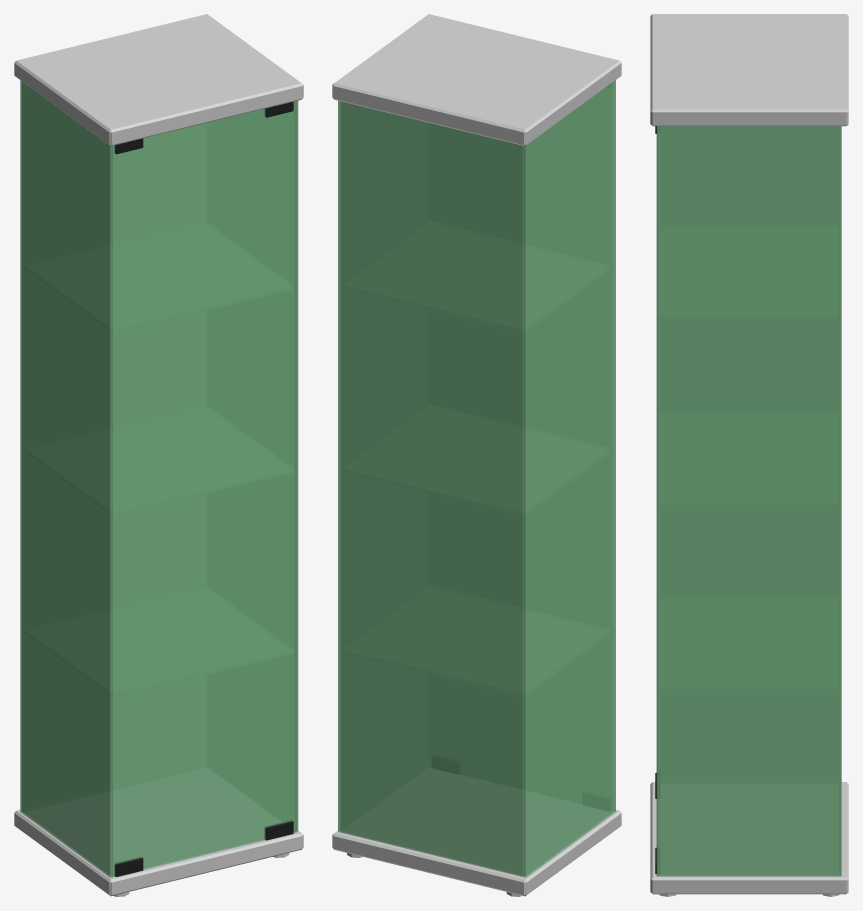
Rendered from DetolfGlassdoorCabinet.FBX.
3 views of the same model, side by side, from view 1: azimuth 30°, elevation 25°; view 2: azimuth 150°, elevation 25°; view 3: azimuth 270°, elevation 25° (orthographic). The views are drawn at different scales.
Parts seen in each view (by area): view 1: DetolfGlassdoorCabinet; view 2: DetolfGlassdoorCabinet; view 3: DetolfGlassdoorCabinet.
Boxes of the visible parts, box(x1,y1,x2,y2) form: DetolfGlassdoorCabinet: box(14, 14, 303, 896); DetolfGlassdoorCabinet: box(332, 14, 621, 896); DetolfGlassdoorCabinet: box(650, 14, 848, 896).
Size of the model in its own units: 43 by 37 by 163.
